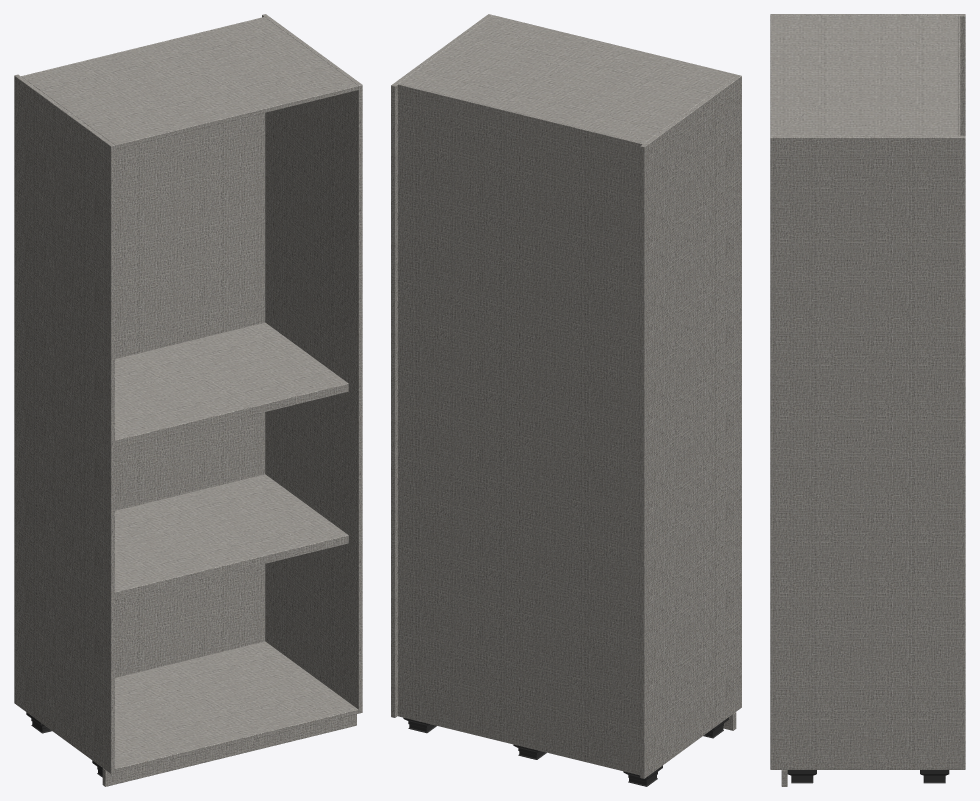
The model's file is cbib12118.gltf.
3 views of the same model, side by side, from view 1: azimuth 30°, elevation 25°; view 2: azimuth 150°, elevation 25°; view 3: azimuth 270°, elevation 25° (orthographic).
Visible parts, largest first — view 1: CBIB12118; view 2: CBIB12118; view 3: CBIB12118.
Part boxes in pixels (x1=…): CBIB12118: x1=14, y1=14, x2=362, y2=786; CBIB12118: x1=391, y1=14, x2=741, y2=786; CBIB12118: x1=770, y1=14, x2=965, y2=786.
Bounding box in the file's own units: 0.9 × 2.2 × 0.6.
3 materials, 2 textured.
